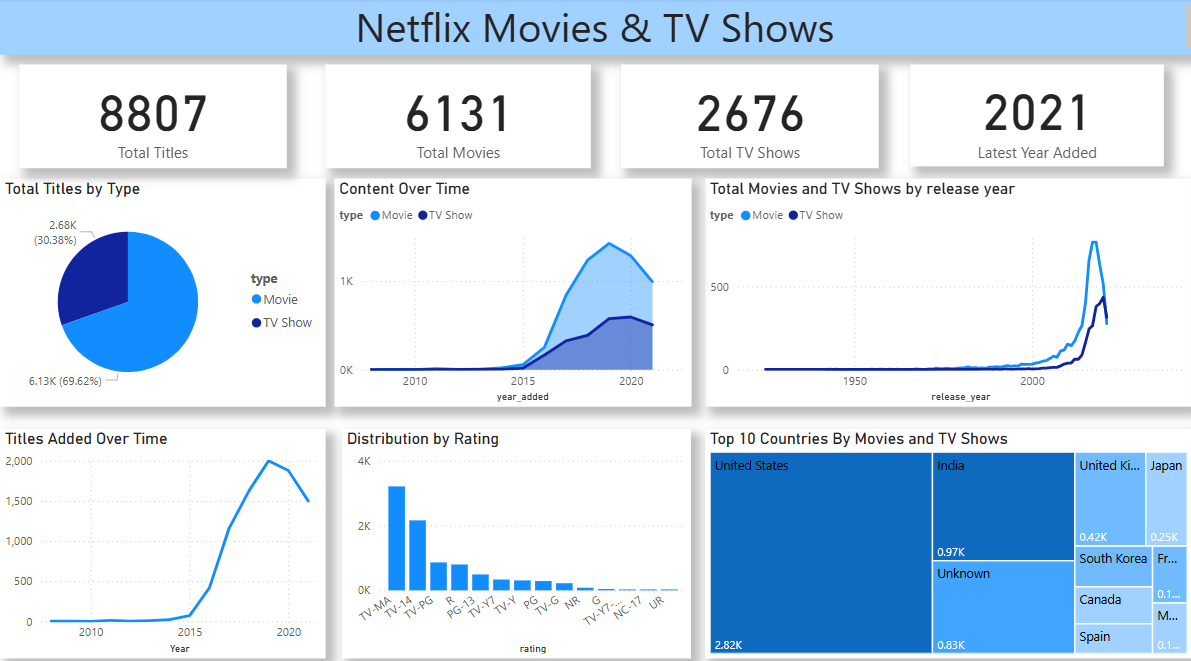

This screenshot's page, from the dashboard's own definition file:
{"tool":"powerbi","page":{"name":"Page 1","canvas":[1280,720],"ordinal":0},"visuals":[{"type":"textbox","box":[10,0,1270,61.1],"z":0},{"type":"pieChart","title":"Total Titles by Type","fields":{"Category":["netflix.type"],"Y":["CountNonNull(netflix.show_id)"]},"box":[10,193,345,242],"z":1000},{"type":"lineChart","title":"Titles Added Over Time","fields":{"Category":["netflix.date_added.Variation.Date Hierarchy.Year"],"Y":["CountNonNull(netflix.title)"]},"box":[10,458,345,243],"z":2000},{"type":"columnChart","title":"Distribution by Rating","fields":{"Category":["netflix.rating"],"Y":["CountNonNull(netflix.show_id)"]},"box":[372,458,370,243],"z":4000},{"type":"card","fields":{"Values":["netflix.Total Titles"]},"box":[30.2,71.6,283.1,109.8],"z":5000},{"type":"card","fields":{"Values":["netflix.Total Movies"]},"box":[354.7,71.6,281.5,109.8],"z":6000},{"type":"card","fields":{"Values":["netflix.Total TV Shows"]},"box":[668.1,71.6,273.6,109.8],"z":7000},{"type":"card","fields":{"Values":["netflix.Latest Year Added"]},"box":[975,71.6,268.8,108.2],"z":8000},{"type":"treemap","title":"Top 10 Countries By Movies and TV Shows","fields":{"Group":["netflix.country"],"Values":["Count(netflix.show_id)"]},"box":[757,458,516,243],"z":9000},{"type":"lineChart","title":"Total Movies and TV Shows by release year","fields":{"Category":["netflix.release_year"],"Y":["Count(netflix.show_id)"],"Series":["netflix.type"]},"box":[757.1,192.5,515.4,241.8],"z":10000},{"type":"areaChart","title":"Content Over Time","fields":{"Category":["netflix.year_added"],"Series":["netflix.type"],"Y":["CountNonNull(netflix.title)"]},"box":[364.2,192.5,378.6,241.8],"z":10001}]}

Visuals, with their boxes in screenshot pixels (x1, y1, x2, y2), scaled from the page's 1280x720 canvas onto the 1191x661 screenshot:
textbox: l=9, t=0, r=1190, b=56
"Total Titles by Type" pieChart: l=9, t=177, r=330, b=399
"Titles Added Over Time" lineChart: l=9, t=420, r=330, b=644
"Distribution by Rating" columnChart: l=346, t=420, r=690, b=644
card - netflix.Total Titles: l=28, t=66, r=292, b=167
card - netflix.Total Movies: l=330, t=66, r=592, b=167
card - netflix.Total TV Shows: l=622, t=66, r=876, b=167
card - netflix.Latest Year Added: l=907, t=66, r=1157, b=165
"Top 10 Countries By Movies and TV Shows" treemap: l=704, t=420, r=1184, b=644
"Total Movies and TV Shows by release year" lineChart: l=704, t=177, r=1184, b=399
"Content Over Time" areaChart: l=339, t=177, r=691, b=399
